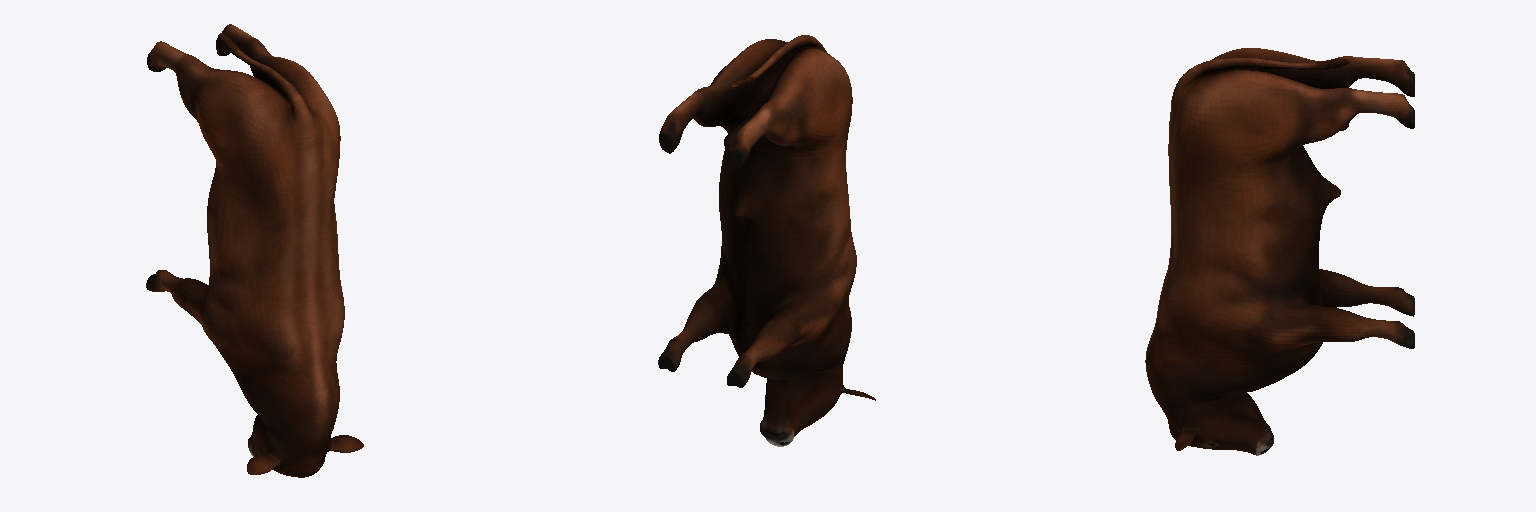
3 views of the same model, side by side, from view 1: azimuth 30°, elevation 25°; view 2: azimuth 150°, elevation 25°; view 3: azimuth 270°, elevation 25° (orthographic).
Visible parts, largest first — view 1: 13087_Limousin_Cattle_v2; view 2: 13087_Limousin_Cattle_v2; view 3: 13087_Limousin_Cattle_v2.
Boxes of the visible parts, <box> form: 13087_Limousin_Cattle_v2: <box>146,24,363,477</box>; 13087_Limousin_Cattle_v2: <box>658,35,875,446</box>; 13087_Limousin_Cattle_v2: <box>1145,48,1414,455</box>.
Bounding box in the file's own units: 82.01 × 268 × 165.
1 materials, 1 textured.